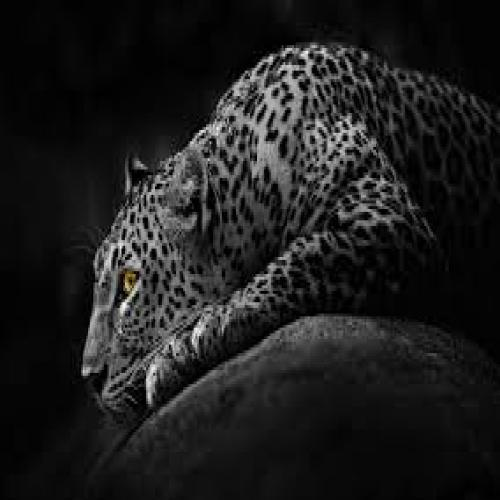jaguar_not-endangered: (82, 45, 500, 421)
